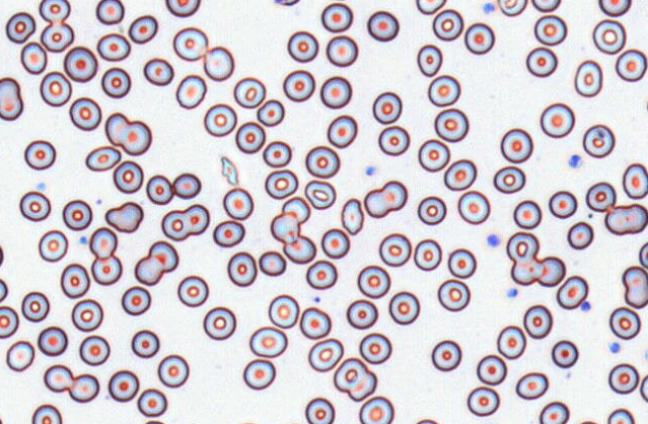PLT: (568, 153, 586, 170), (486, 232, 503, 249), (482, 1, 496, 16), (505, 286, 520, 300), (607, 341, 623, 354), (579, 301, 594, 313), (365, 164, 377, 176), (77, 235, 88, 245)
RBC: (104, 112, 152, 155), (134, 240, 178, 285), (333, 357, 376, 401), (160, 203, 209, 241), (363, 180, 407, 218), (604, 203, 647, 235), (539, 102, 575, 138), (63, 45, 98, 82), (307, 337, 343, 372), (172, 26, 208, 61), (104, 201, 143, 233), (592, 18, 626, 54), (249, 326, 287, 358), (39, 70, 72, 106), (203, 103, 237, 137), (434, 108, 468, 142), (305, 145, 340, 178), (500, 128, 533, 163), (582, 123, 615, 158), (203, 306, 236, 340), (357, 264, 390, 298), (378, 232, 411, 266), (457, 190, 490, 224), (69, 96, 101, 131), (203, 45, 234, 81), (437, 278, 470, 311), (325, 34, 358, 67), (282, 69, 315, 102), (556, 275, 588, 309), (157, 354, 189, 388), (418, 138, 450, 172), (320, 75, 352, 109), (615, 48, 647, 82), (533, 14, 567, 46), (175, 74, 206, 109), (227, 251, 257, 287), (622, 265, 647, 308), (574, 59, 602, 97), (299, 306, 331, 339), (242, 358, 275, 390), (107, 369, 139, 402), (71, 298, 103, 331), (233, 76, 266, 108), (443, 158, 476, 190), (427, 74, 460, 106), (40, 21, 74, 52), (268, 294, 299, 328), (388, 291, 419, 325), (609, 306, 640, 340), (326, 114, 357, 148), (60, 263, 90, 298), (359, 332, 391, 364), (222, 187, 253, 220), (112, 160, 143, 193), (432, 8, 463, 41), (366, 10, 399, 41), (282, 234, 316, 264), (496, 325, 526, 359), (264, 169, 298, 199), (523, 304, 552, 339), (0, 76, 23, 120), (358, 395, 394, 423), (177, 275, 208, 307), (79, 334, 110, 366), (346, 298, 378, 329), (287, 30, 318, 62), (525, 46, 557, 77), (24, 139, 56, 170), (506, 231, 539, 261), (466, 386, 499, 416), (38, 229, 68, 262), (372, 91, 402, 124), (320, 2, 353, 32), (96, 32, 130, 61), (476, 354, 507, 385), (37, 325, 68, 356), (608, 363, 639, 394), (585, 181, 616, 212), (19, 190, 50, 221), (90, 255, 122, 285), (305, 259, 337, 289), (304, 179, 336, 209), (431, 339, 461, 371), (5, 11, 35, 43), (235, 121, 265, 153), (464, 22, 494, 54), (515, 371, 548, 400), (413, 238, 442, 271), (85, 145, 121, 171), (68, 373, 99, 403), (320, 227, 350, 258), (5, 340, 35, 371), (378, 125, 409, 155), (62, 199, 92, 230), (101, 67, 131, 98), (270, 211, 299, 243), (622, 162, 647, 199), (89, 226, 117, 259), (212, 219, 245, 247), (121, 285, 151, 315), (128, 14, 158, 44), (145, 174, 174, 205), (136, 388, 167, 417), (493, 165, 525, 193), (510, 258, 543, 285), (20, 41, 47, 74), (447, 248, 476, 278), (417, 195, 446, 225), (143, 57, 173, 86), (537, 256, 565, 287), (43, 364, 74, 392), (21, 291, 49, 322), (513, 199, 541, 229), (416, 44, 442, 76), (281, 196, 310, 224), (131, 329, 159, 358), (256, 98, 284, 127), (548, 190, 577, 218), (304, 397, 335, 423), (172, 172, 201, 199), (262, 140, 291, 167), (551, 339, 578, 368), (566, 221, 593, 249), (38, 0, 70, 23), (258, 250, 286, 276), (95, 0, 124, 24), (538, 401, 569, 423), (0, 305, 19, 338), (31, 403, 62, 423), (165, 0, 200, 17), (598, 0, 631, 17), (497, 0, 527, 16), (415, 0, 446, 14), (607, 408, 634, 423), (531, 0, 561, 12), (638, 241, 647, 269), (639, 374, 647, 402), (0, 278, 8, 302), (273, 0, 300, 6), (415, 418, 438, 423), (144, 419, 165, 424), (578, 419, 598, 424), (0, 244, 4, 266)
Schistocyte: (341, 196, 365, 236), (219, 155, 239, 187)
